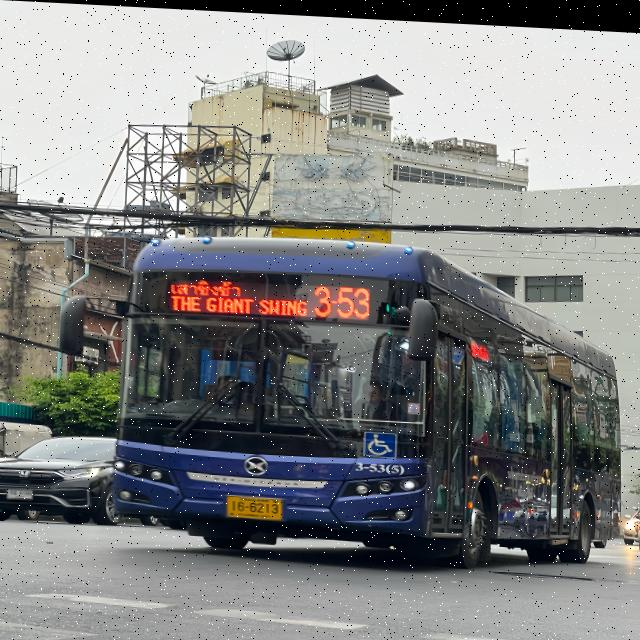Bus Line Number: (316, 277, 374, 319)
Bus Side Number: (350, 456, 409, 473)
Destination Sign: (162, 270, 314, 325)
TSB-Bus: (109, 235, 622, 565)
